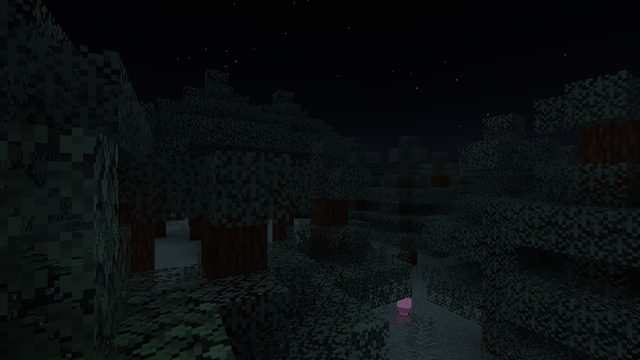cochons: (390, 299, 418, 327)
